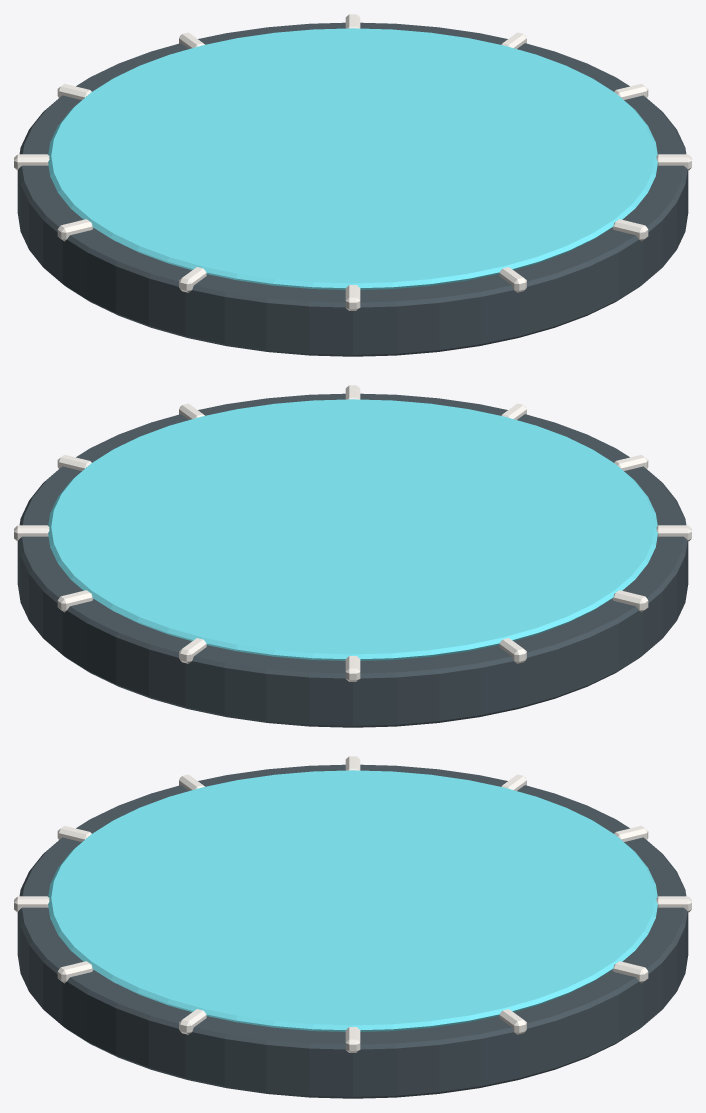
File: SM_HoloPad.fbx
The picture shows the model from 3 angles, top to bottom: view 1: azimuth 30°, elevation 25°; view 2: azimuth 150°, elevation 25°; view 3: azimuth 270°, elevation 25°; orthographic projection.
Parts seen in each view (by area): view 1: SM_HoloPad; view 2: SM_HoloPad; view 3: SM_HoloPad.
Part boxes in pixels (<box>): SM_HoloPad: <box>14,14,691,356</box>; SM_HoloPad: <box>14,385,691,727</box>; SM_HoloPad: <box>14,756,691,1098</box>.
Size of the model in its own units: 182 by 18 by 182.
